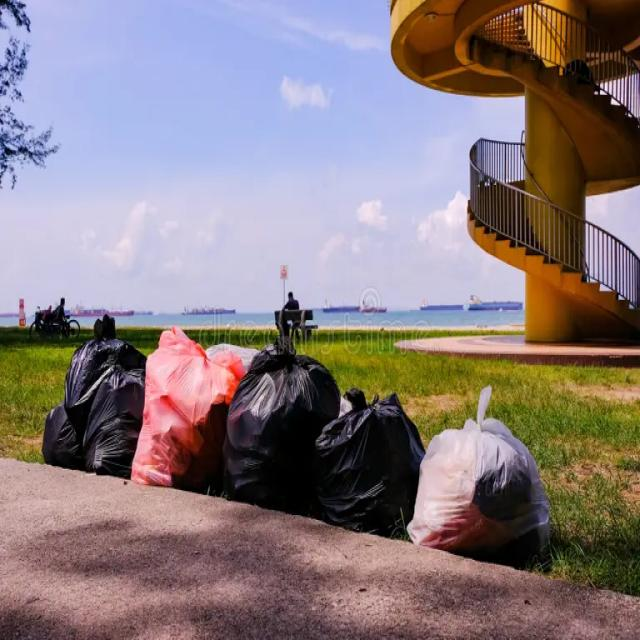normal_waste: (417, 396, 556, 571), (230, 292, 331, 498), (314, 389, 422, 542), (134, 336, 250, 476), (41, 318, 148, 458)
